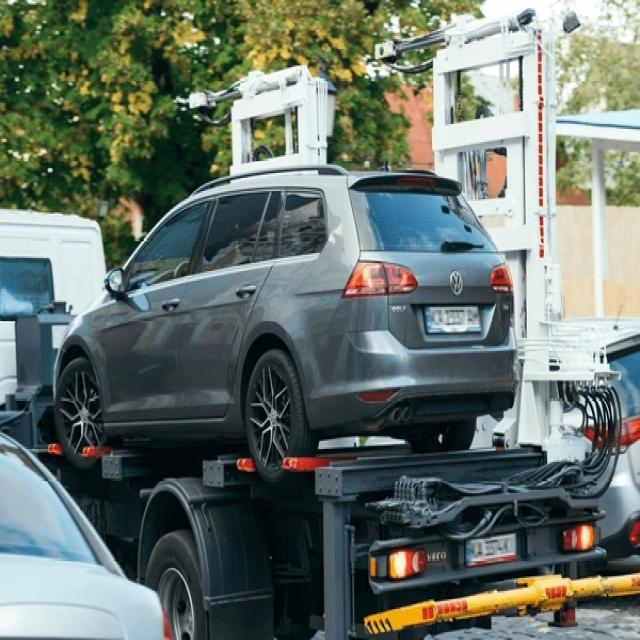wolksvogen: (446, 268, 466, 298)
